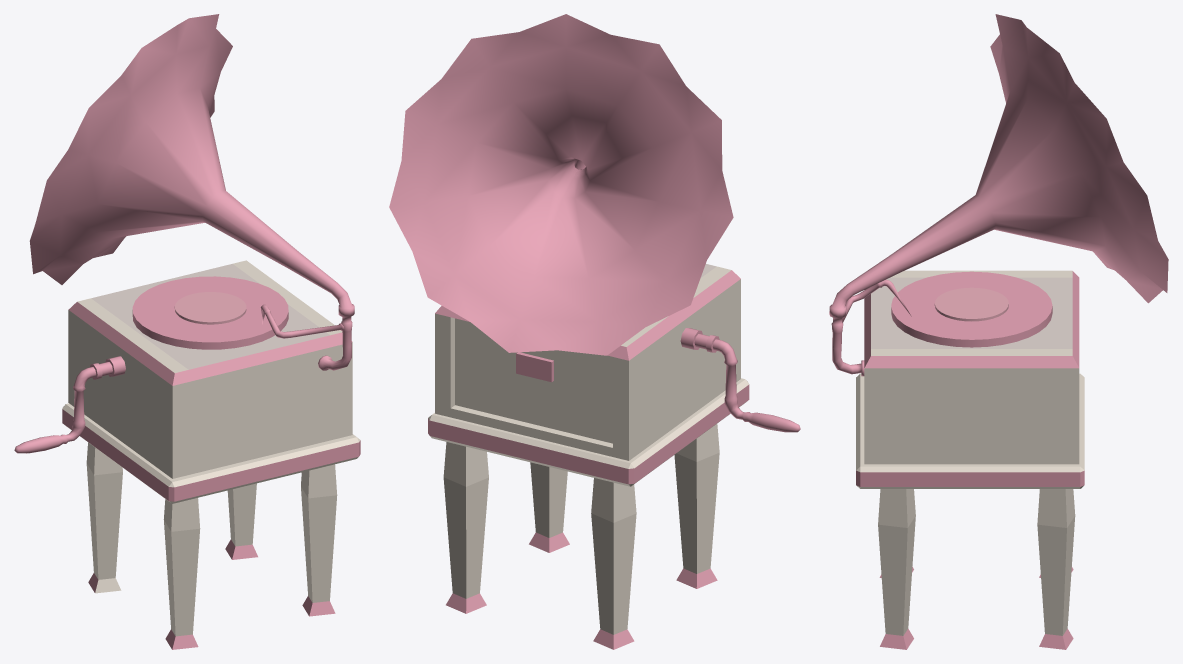
Rendered from Phonograph.fbx.
3 views of the same model, side by side, from view 1: azimuth 30°, elevation 25°; view 2: azimuth 150°, elevation 25°; view 3: azimuth 270°, elevation 25° (orthographic). The views are drawn at different scales.
Visible parts, largest first — view 1: Cube; view 2: Cube; view 3: Cube.
Boxes of the visible parts, x1,y1,x2,y2 form: Cube: (14, 14, 360, 649); Cube: (389, 14, 800, 649); Cube: (829, 14, 1168, 649).
Bounding box in the file's own units: 3.25 × 5.91 × 3.16.
